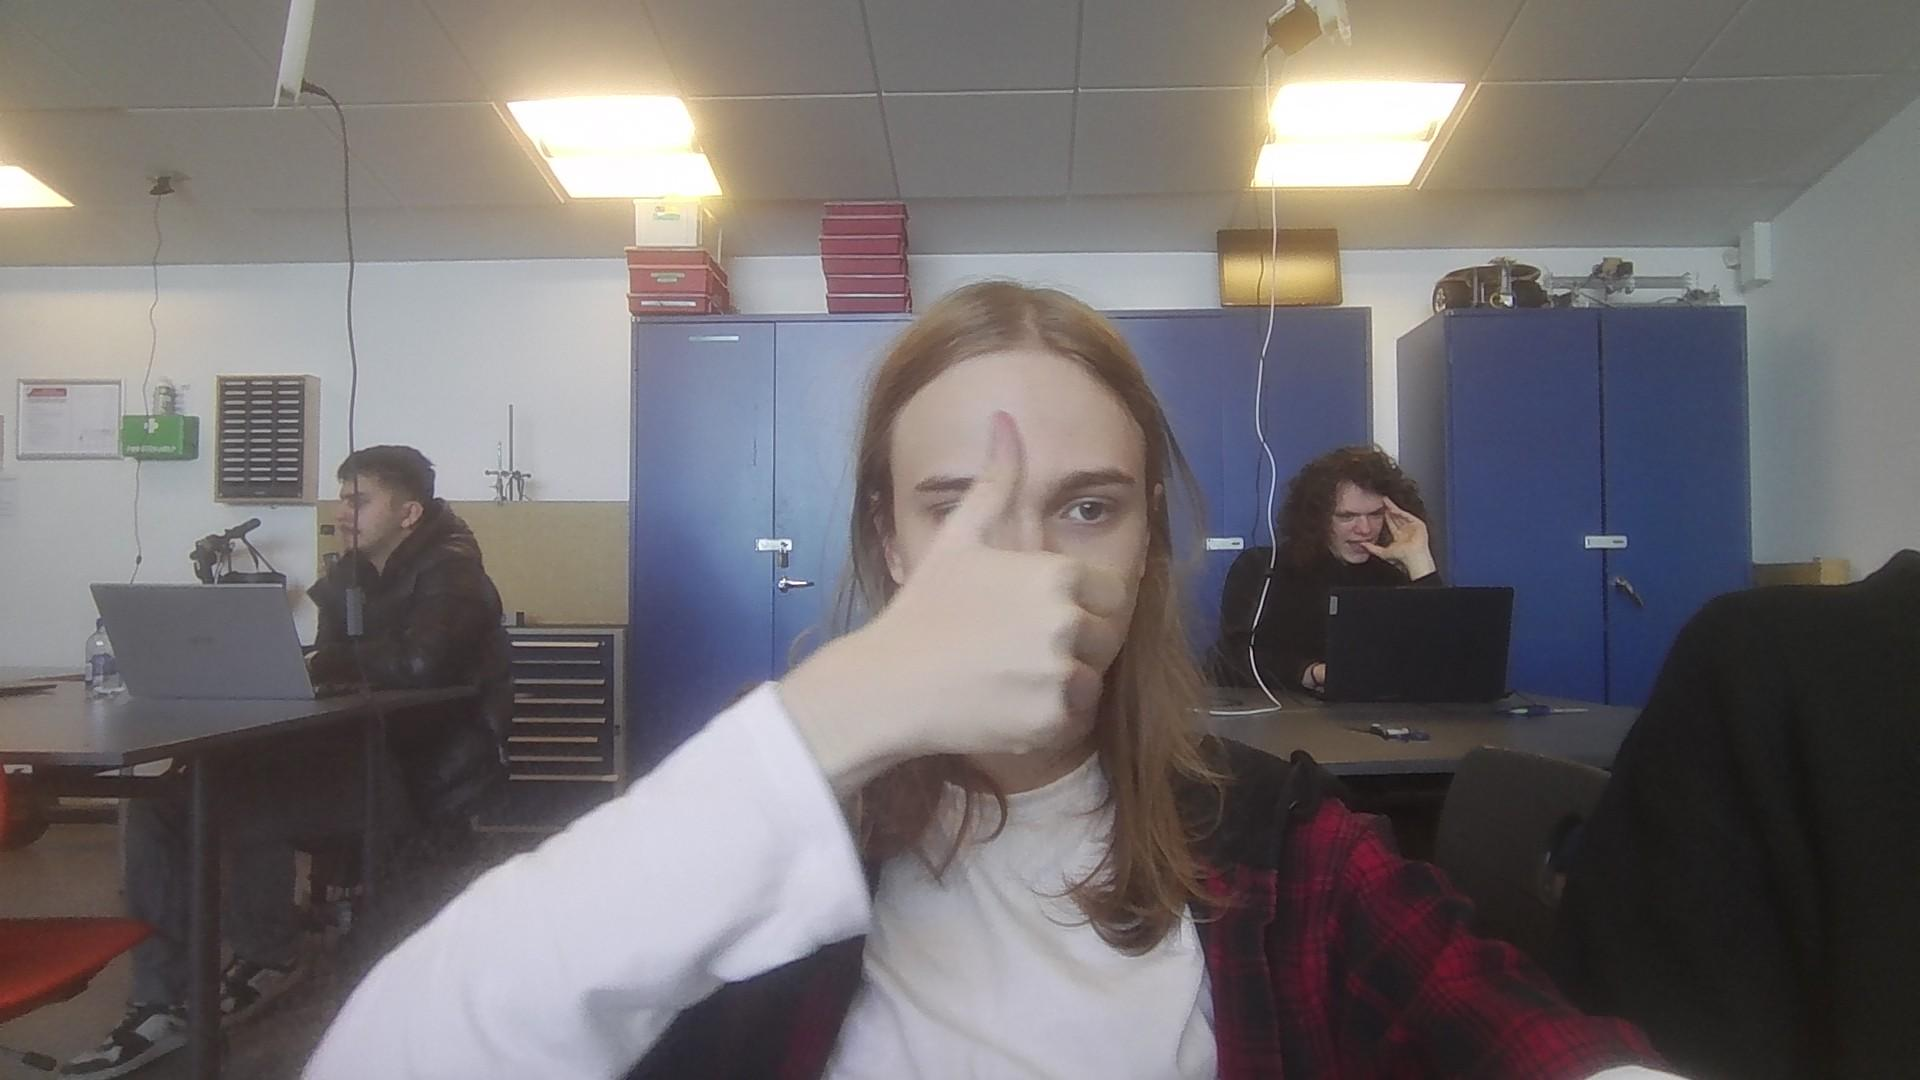thumbs up: (841, 401, 1135, 775)
